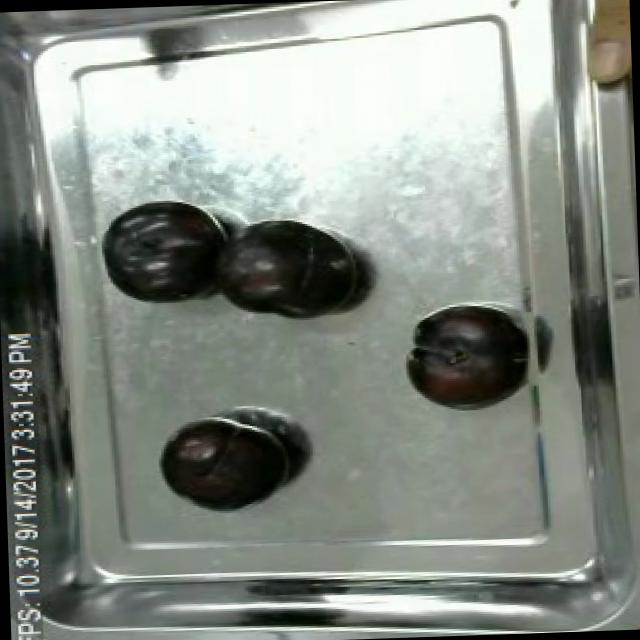Fruit: (205, 212, 368, 324), (95, 195, 232, 310), (158, 413, 296, 514), (402, 307, 529, 413), (571, 0, 632, 93)
